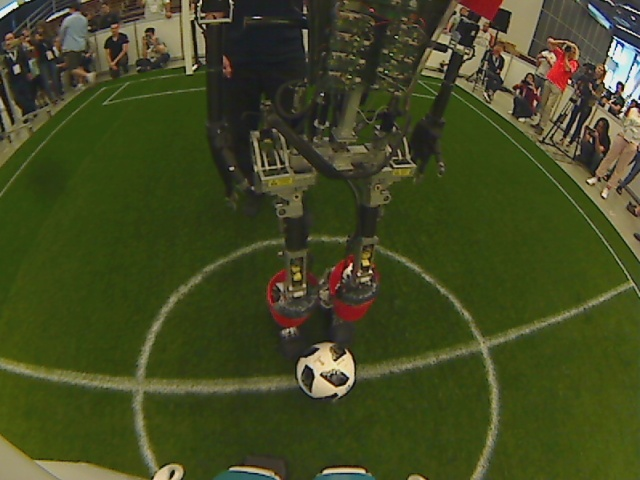ball: (293, 341, 358, 402)
